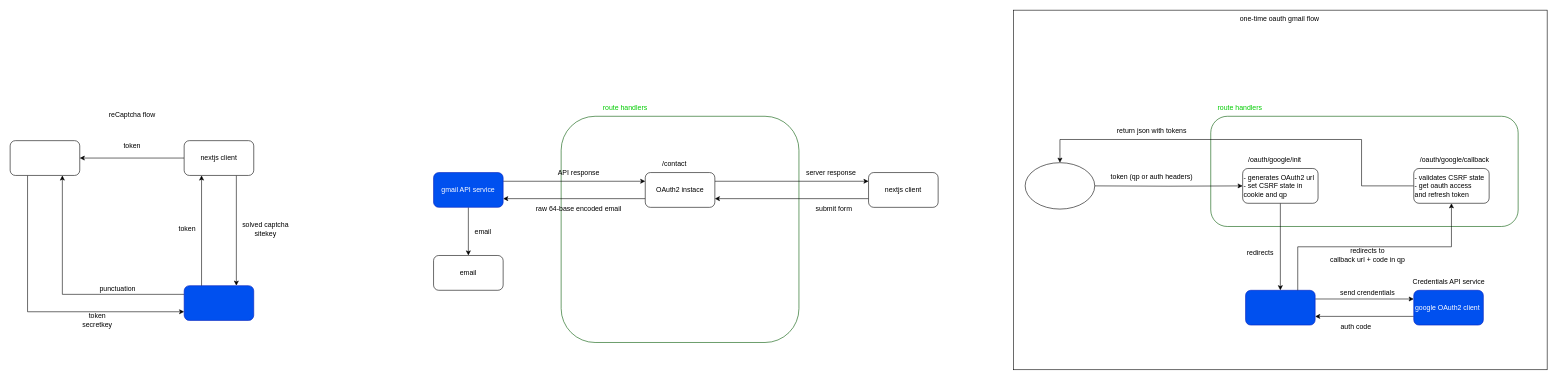
Some shapes in this 1557 by 380 pixel diagram are drawn without their labels. Here are the shapes that lost their labels. From the top down, the box of each, then its label:
(10, 140, 80, 175): nextjs server
(1025, 162, 1095, 209): GET request
(184, 285, 254, 320): google reCaptcha
(1245, 290, 1315, 325): constent screen
